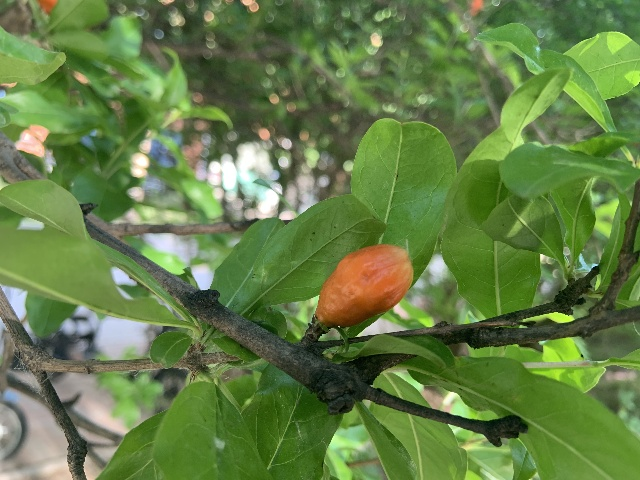bud: (316, 244, 413, 327)
